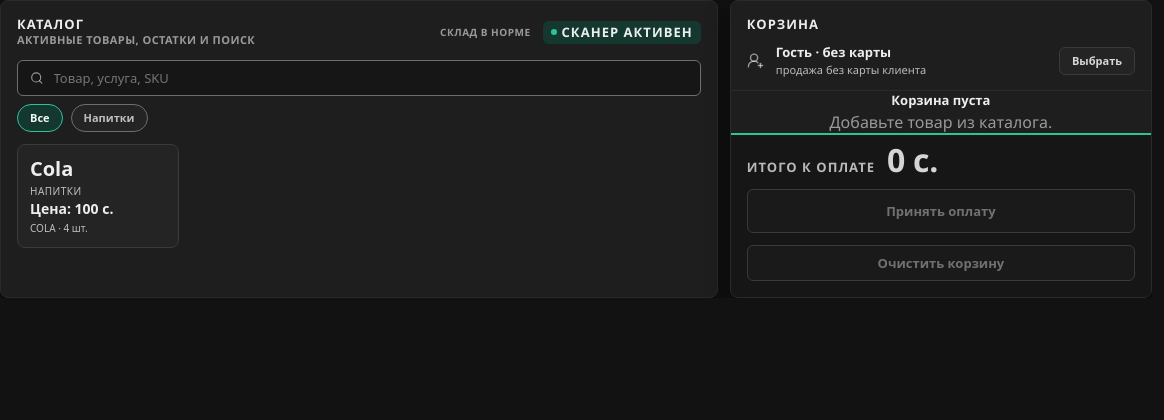
Test: BackendPosWorkspace › purchases a package from the wallet without creating a POS sale and refreshes client state
Click the button "Выбрать" at (1097, 61), box x1=1059 y1=47 x2=1135 y2=75
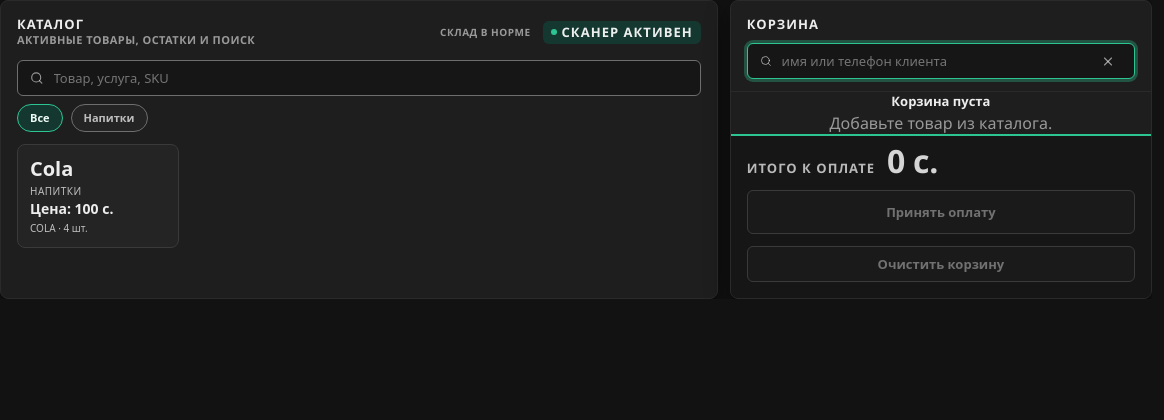
Type "Амир" into the field labelled "клиент" at (933, 61), box x1=780 y1=51 x2=1086 y2=71
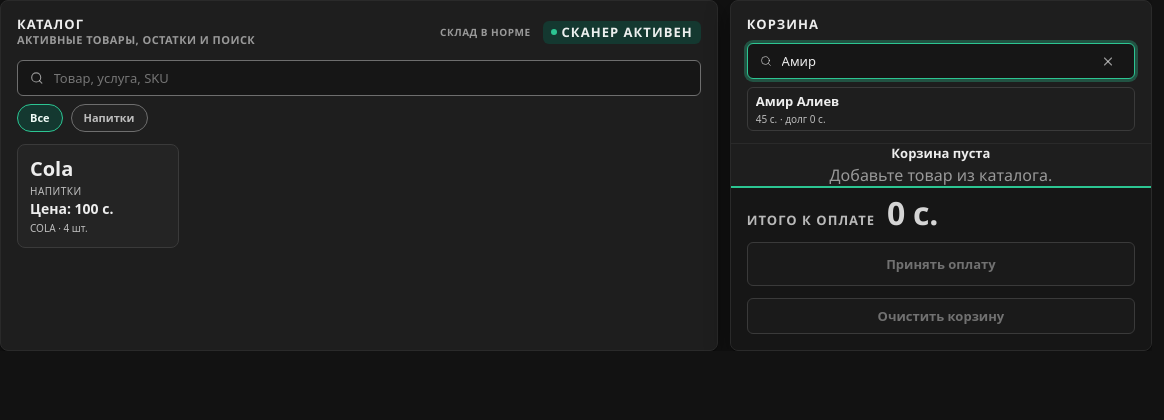
Click the button "Амир Алиев 45 с. · долг 0 с." at (798, 101), box x1=747 y1=87 x2=1135 y2=131
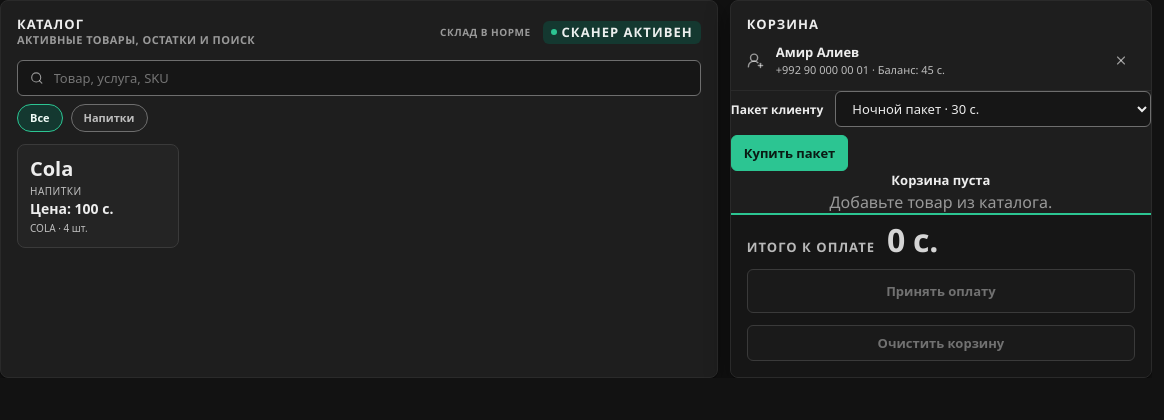
Click the button "Купить пакет" at (790, 153), box x1=731 y1=135 x2=848 y2=171
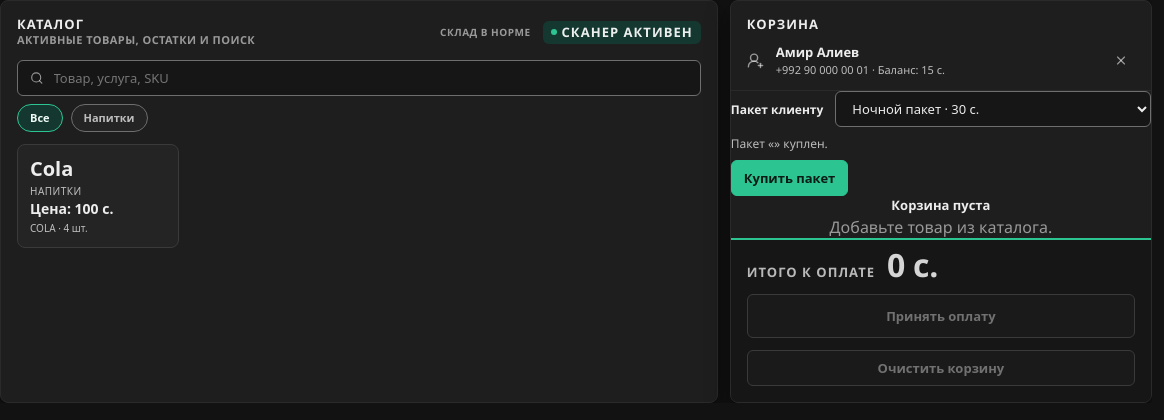
Check: the message shows "куплен", box x1=731 y1=135 x2=828 y2=152
Check: the text "15 с." is shown, box x1=921 y1=63 x2=945 y2=78
